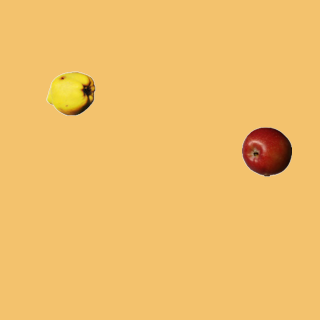Apple Braeburn: (241, 126, 291, 176)
Quince: (45, 68, 95, 118)
